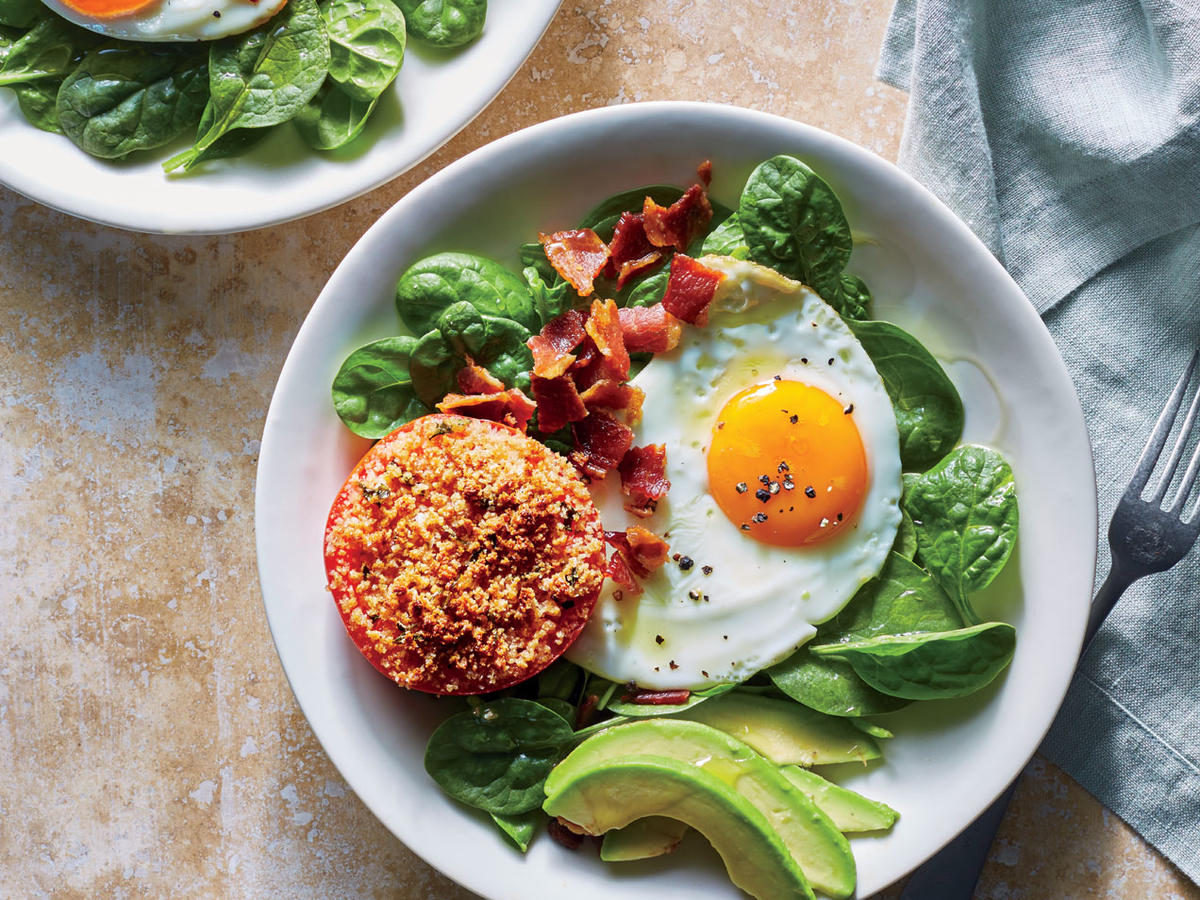chopped lettuce: (14, 36, 432, 157), (327, 256, 524, 405), (722, 172, 861, 297)
fried egg: (607, 326, 869, 663)
